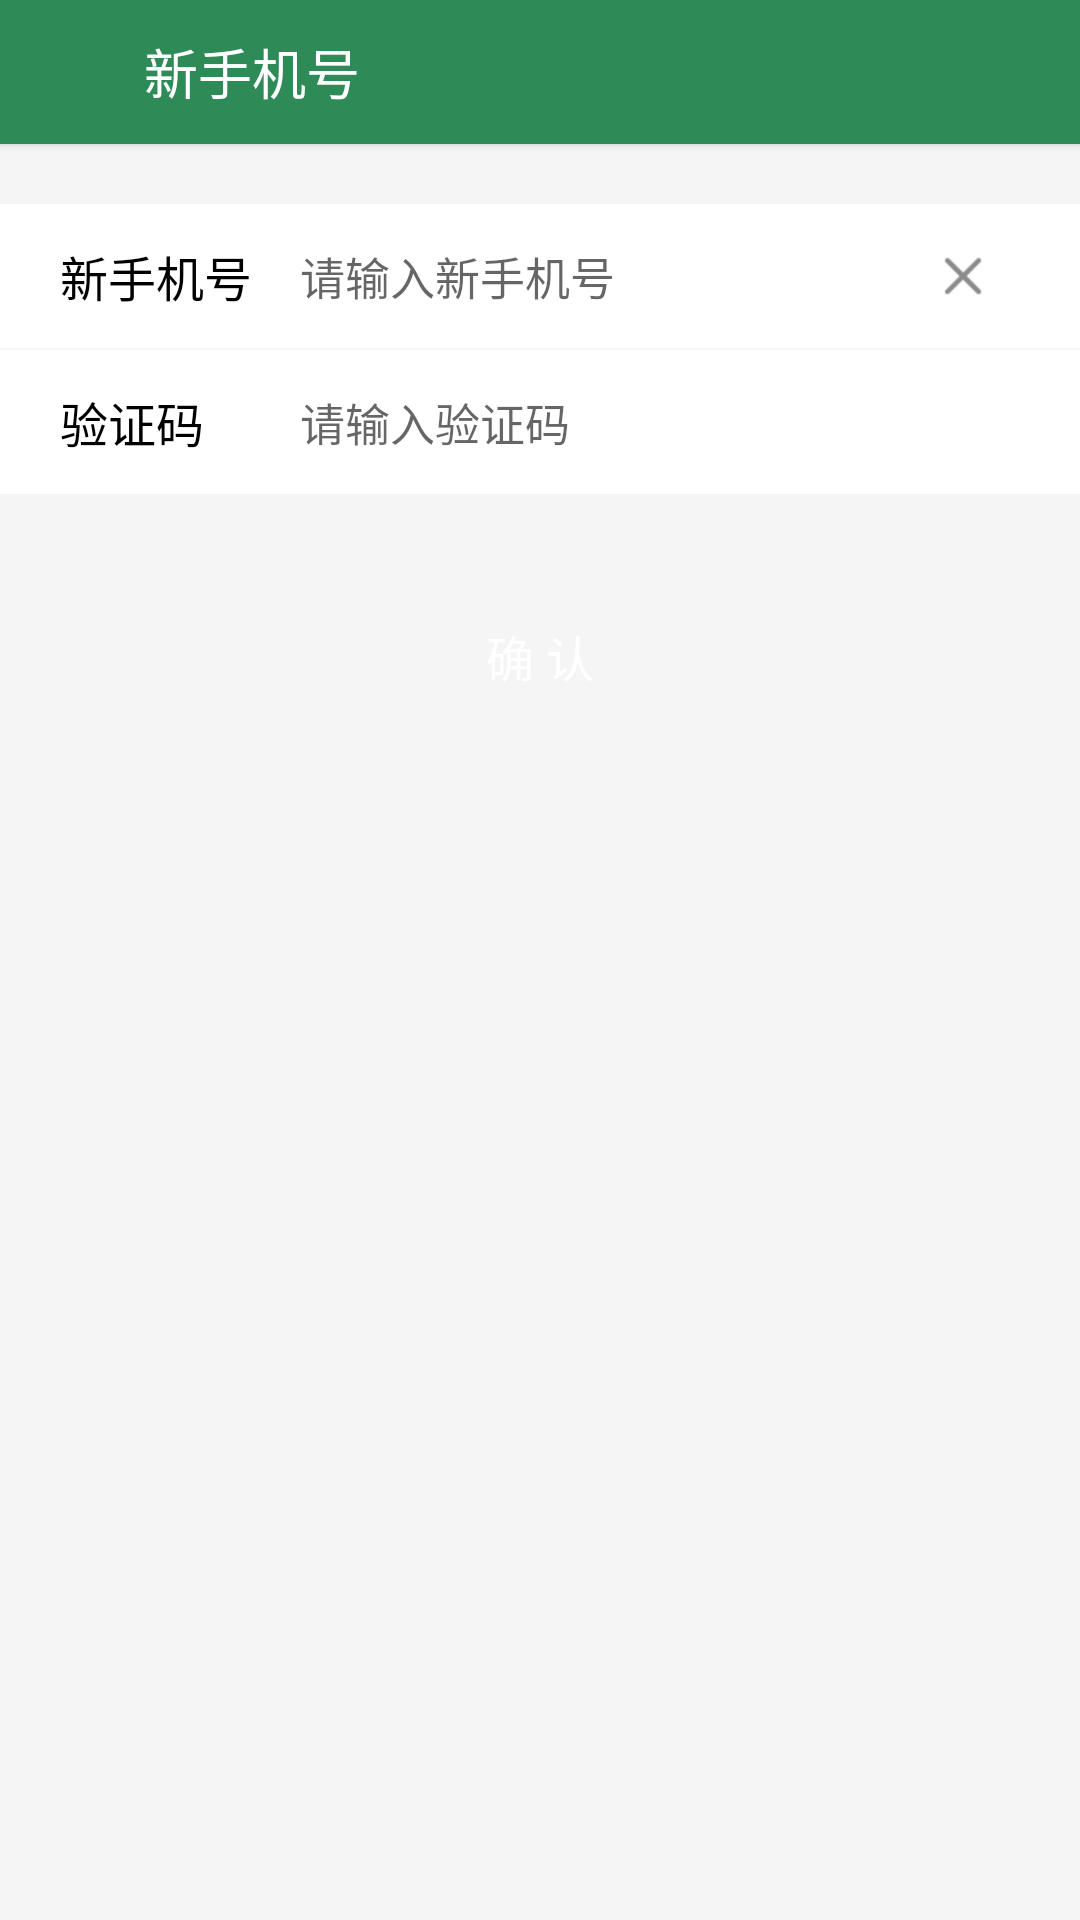

Locate icon controls on the screen. Image size 1080 x 1920, boxes as (x1, y1, x2, y2).
clear: (945, 258, 981, 294)
